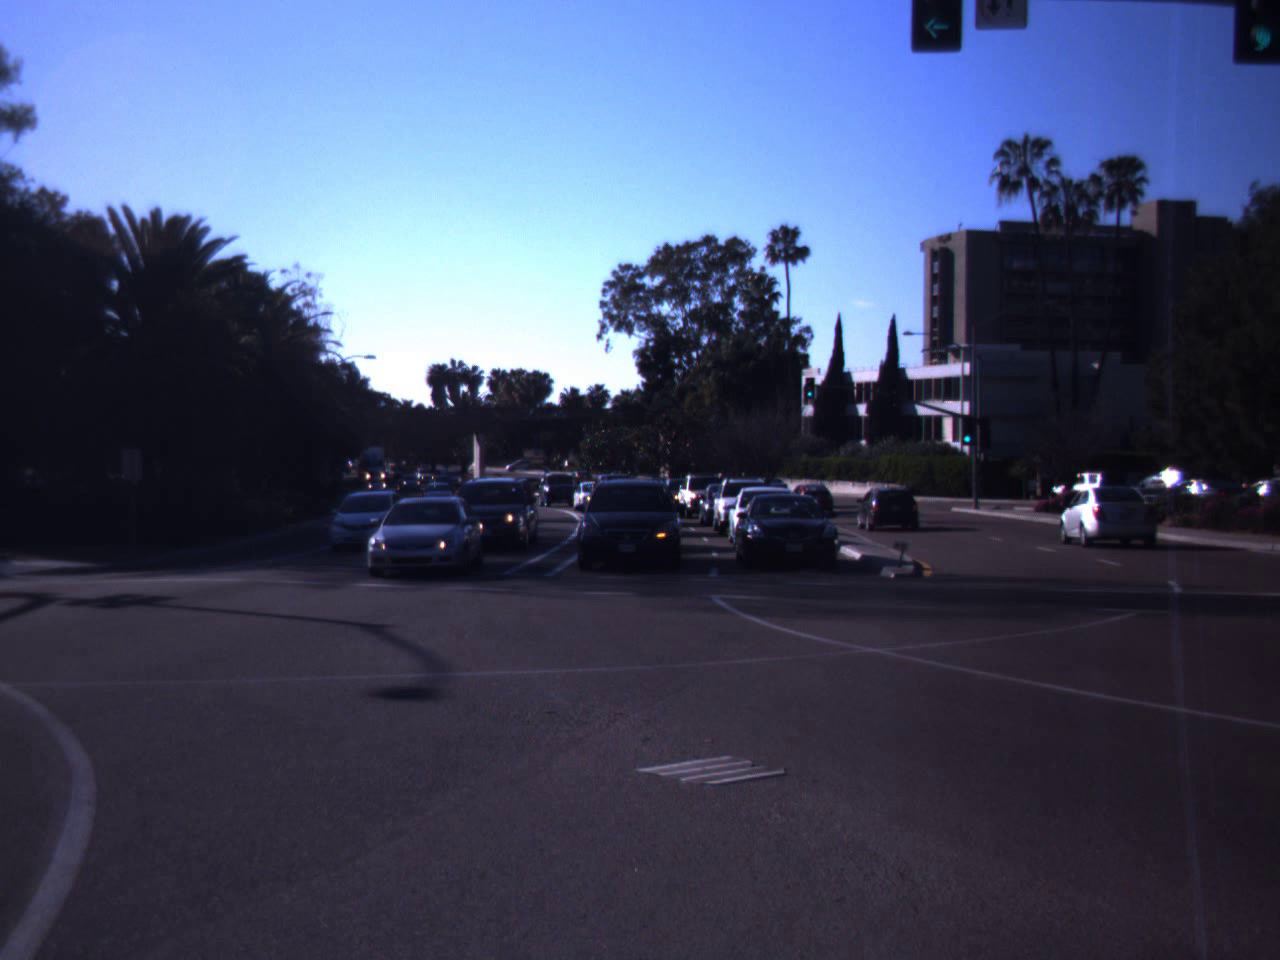go: (894, 0, 978, 50), (1224, 0, 1280, 66)
